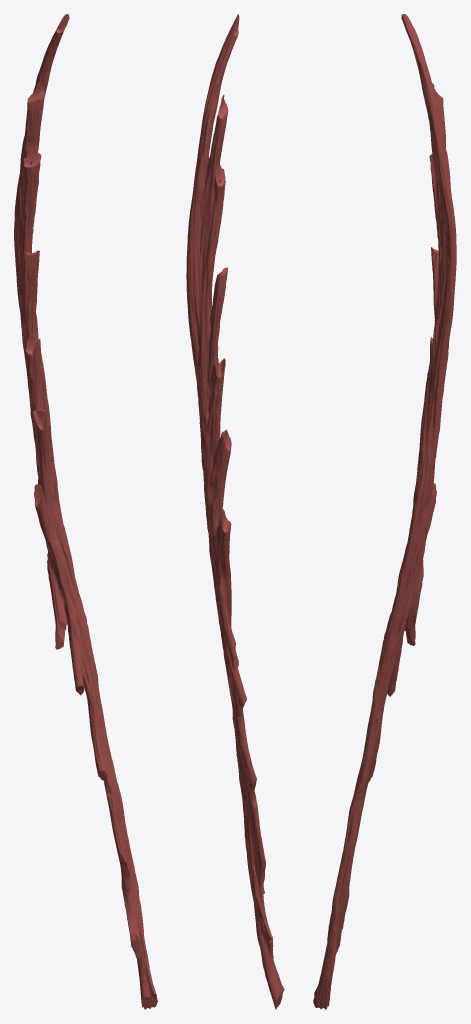
The model's file is FMA22780.glb.
3 views of the same model, side by side, from view 1: azimuth 90°, elevation 25°; view 2: azimuth 150°, elevation 25°; view 3: azimuth 270°, elevation 25° (orthographic). The views are drawn at different scales.
Visible parts, largest first — view 1: FMA22780; view 2: FMA22780; view 3: FMA22780.
Part boxes in pixels (x1=…): FMA22780: x1=14, y1=14, x2=157, y2=1009; FMA22780: x1=186, y1=14, x2=284, y2=1009; FMA22780: x1=313, y1=14, x2=456, y2=1009.
Bounding box in the file's own units: 0.0119 × 0.3628 × 0.0474.
